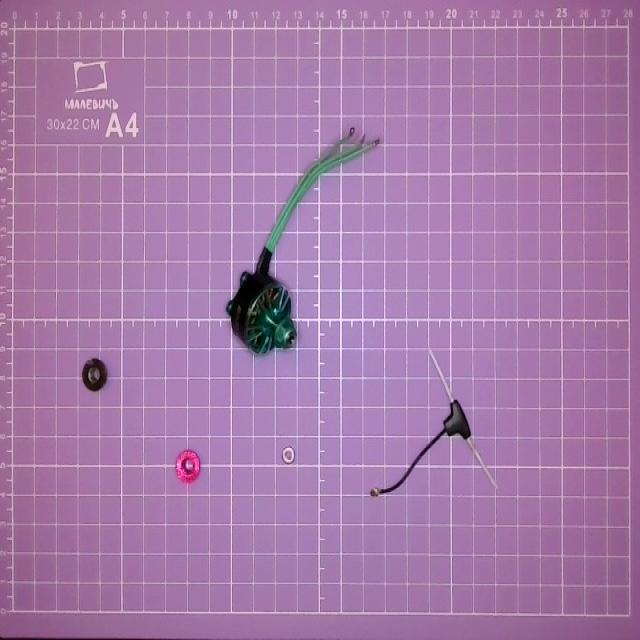antenna: (370, 350, 501, 498)
motor: (229, 120, 380, 355)
screw_M3: (279, 444, 298, 466)
screw_M5: (74, 349, 110, 402), (170, 445, 202, 487)
